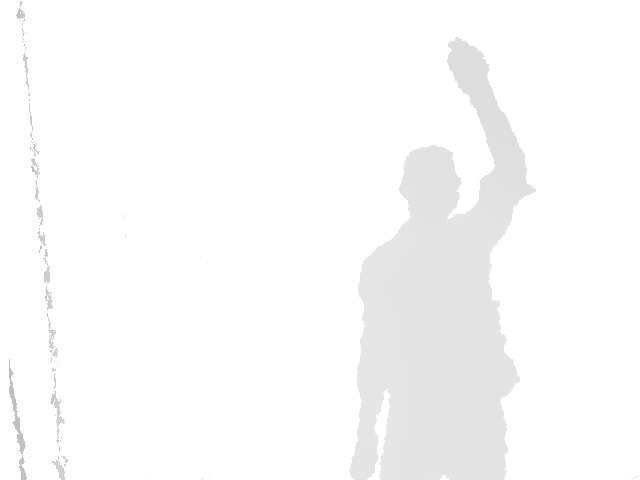hand: (446, 36, 492, 94)
hand_down: (349, 439, 380, 480)
head: (399, 146, 461, 218)
person: (349, 36, 537, 480)
